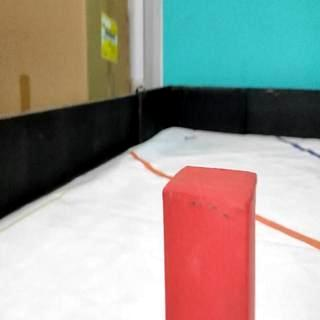redbox: (163, 165, 257, 320)
